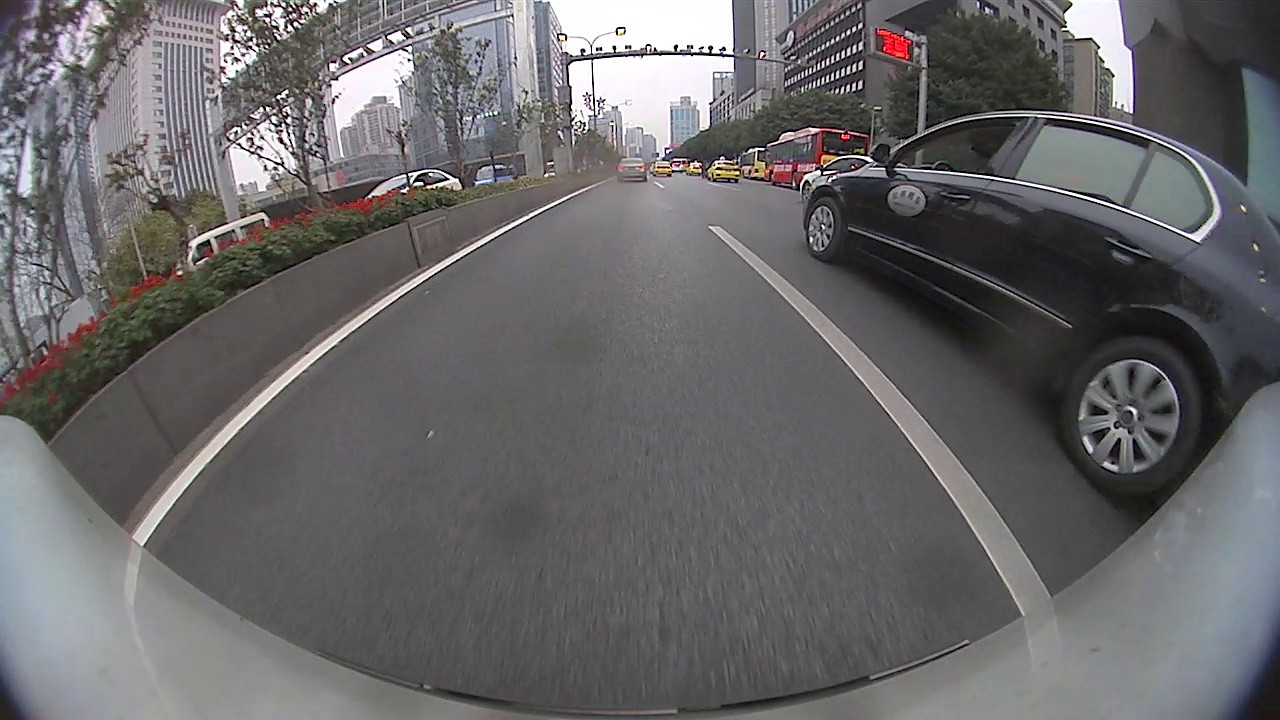bus: (761, 124, 873, 191), (472, 161, 515, 189), (738, 144, 767, 181)
car: (801, 106, 1278, 507), (179, 207, 275, 278), (357, 165, 466, 204), (797, 151, 882, 200), (705, 154, 742, 183), (616, 156, 649, 184), (651, 159, 674, 178), (685, 157, 704, 177)
front: (803, 196, 846, 263), (800, 183, 813, 205)
rear: (1058, 339, 1206, 494)
